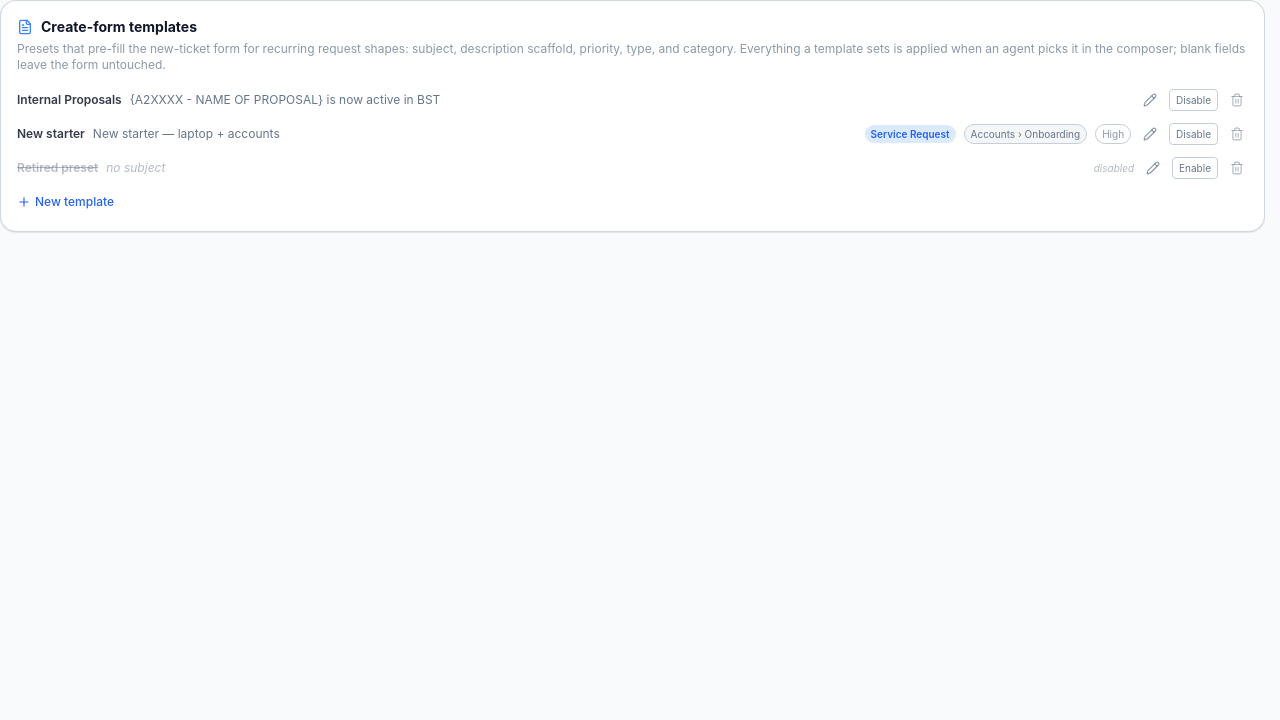
it: CreateTemplatesSection (Phase TT) › pencil prefills EVERY field of the row and Save PATCHes the edited payload
Expected: the text "Internal Proposals" is shown, left=17, top=92, right=122, bottom=108
Expected: the text "Accounts › Onboarding" is shown, left=964, top=124, right=1087, bottom=144
Click the button named "Edit template New starter" at [1150, 134], box left=1139, top=123, right=1161, bottom=145
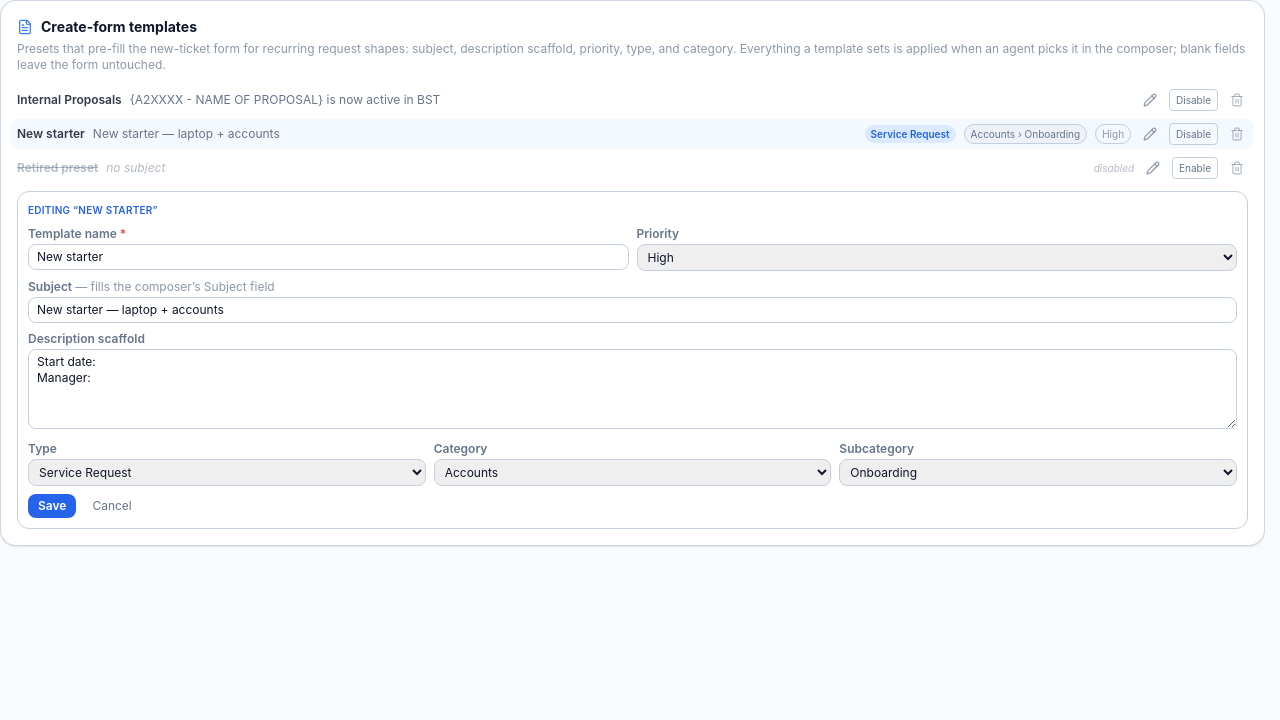
Expected: the text "Editing “New starter”" is shown, left=28, top=204, right=158, bottom=216
Expected: the field labelled "Template name" holds "New starter", left=28, top=244, right=628, bottom=270
Expected: the field labelled "Subject" holds "New starter — laptop + accounts"
Replace the text in the field labelled "Subject" with "New starter — laptop, phone + accounts" at [632, 310], box left=28, top=297, right=1237, bottom=323
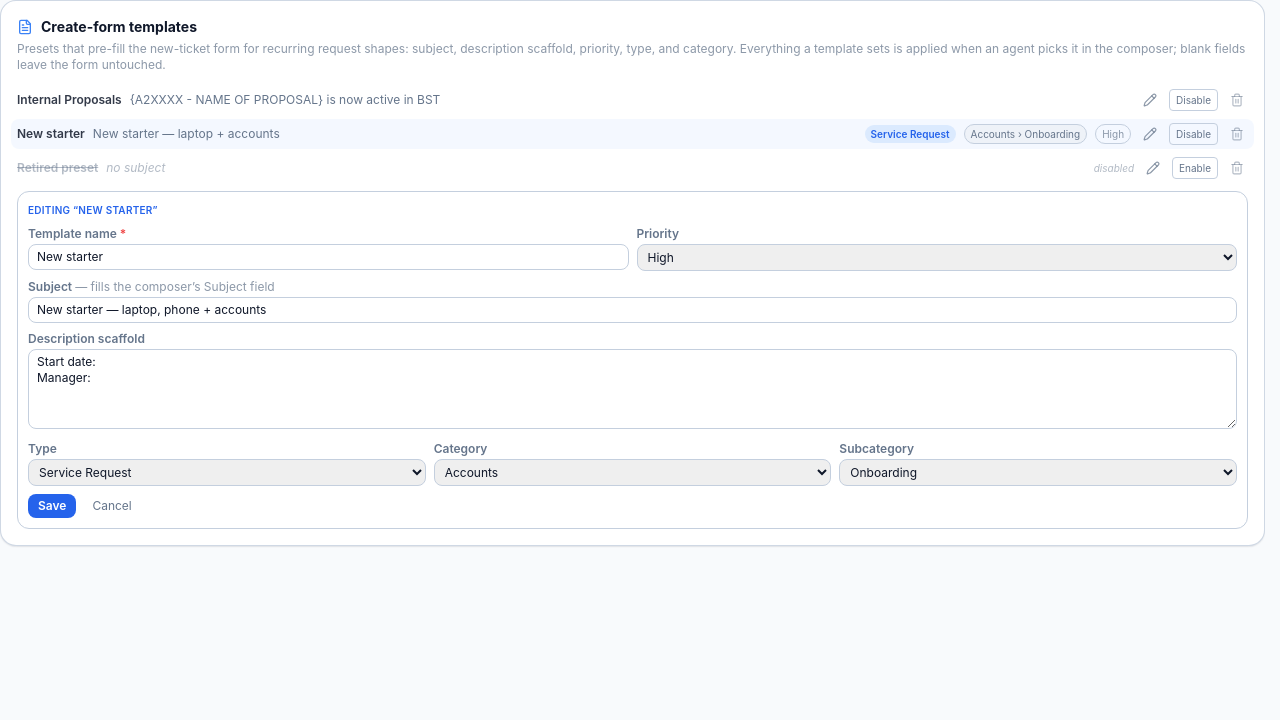
Select "Leave as-is" in the dropdown labelled "Priority" at [937, 258], box left=636, top=244, right=1237, bottom=271
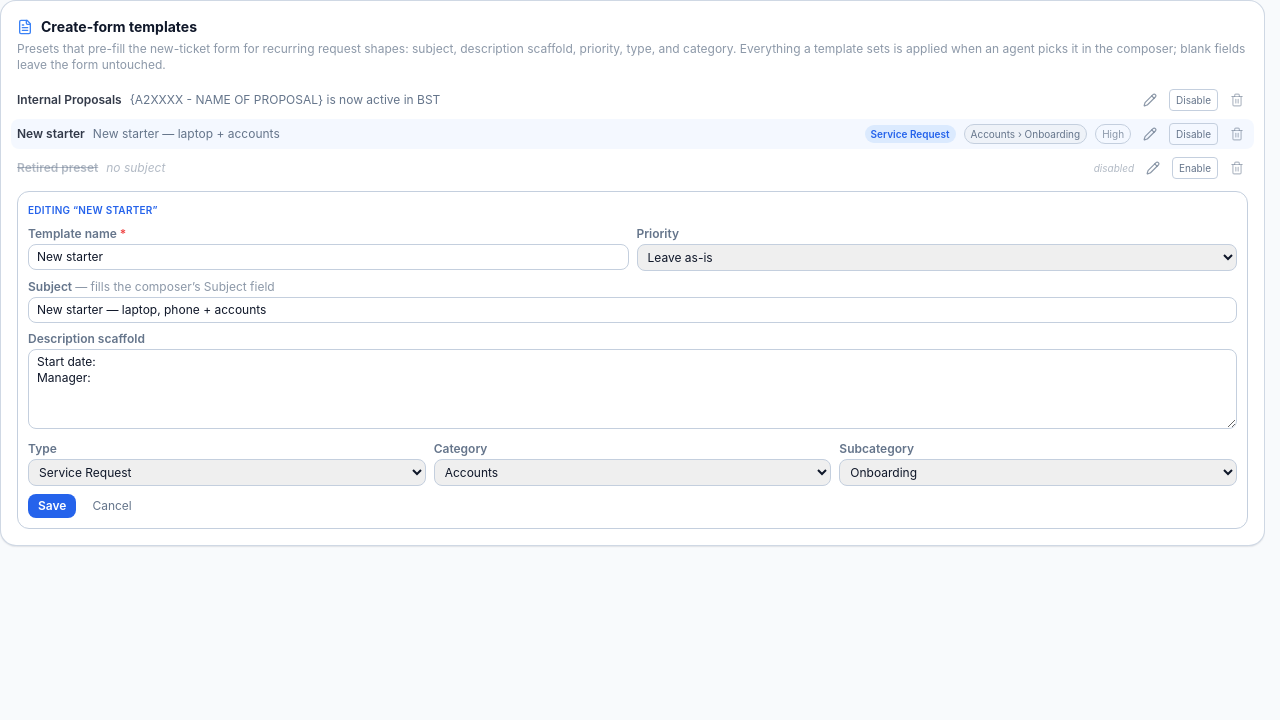
Select "Incident" in the dropdown named "Ticket type" at [227, 472], box left=28, top=459, right=426, bottom=486
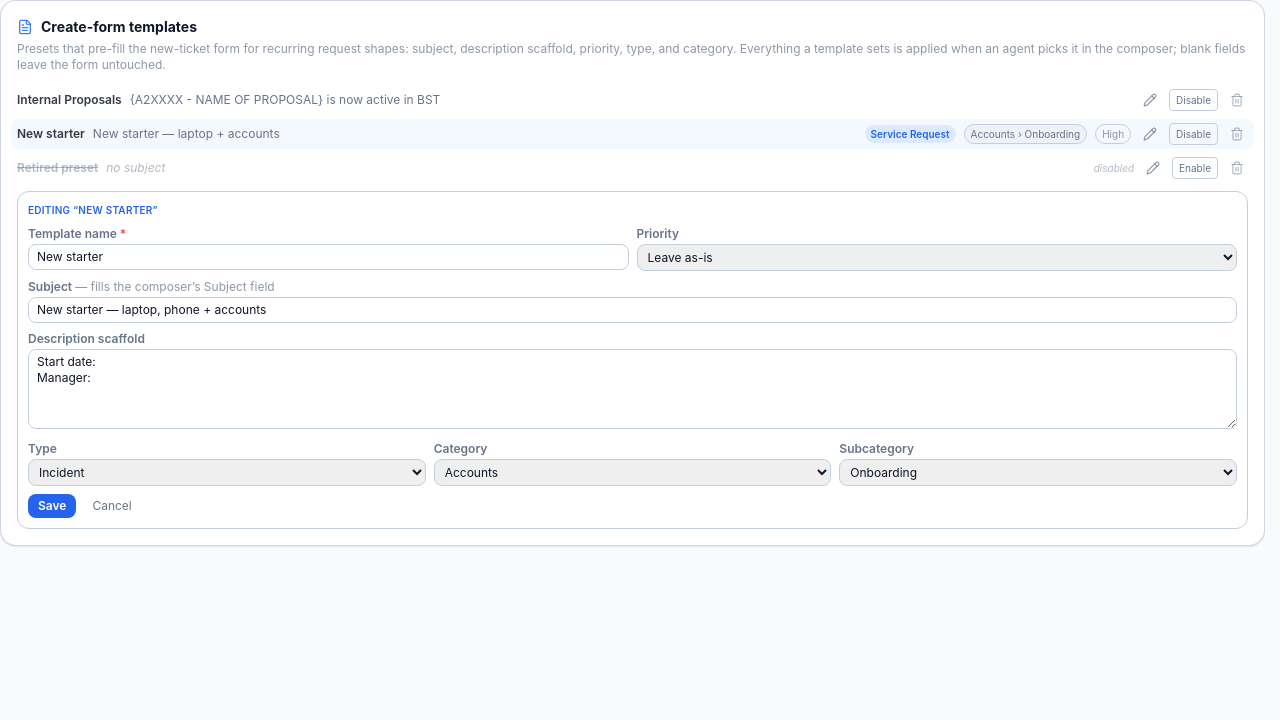
Click the button "Save" at [52, 506], box left=28, top=494, right=76, bottom=518
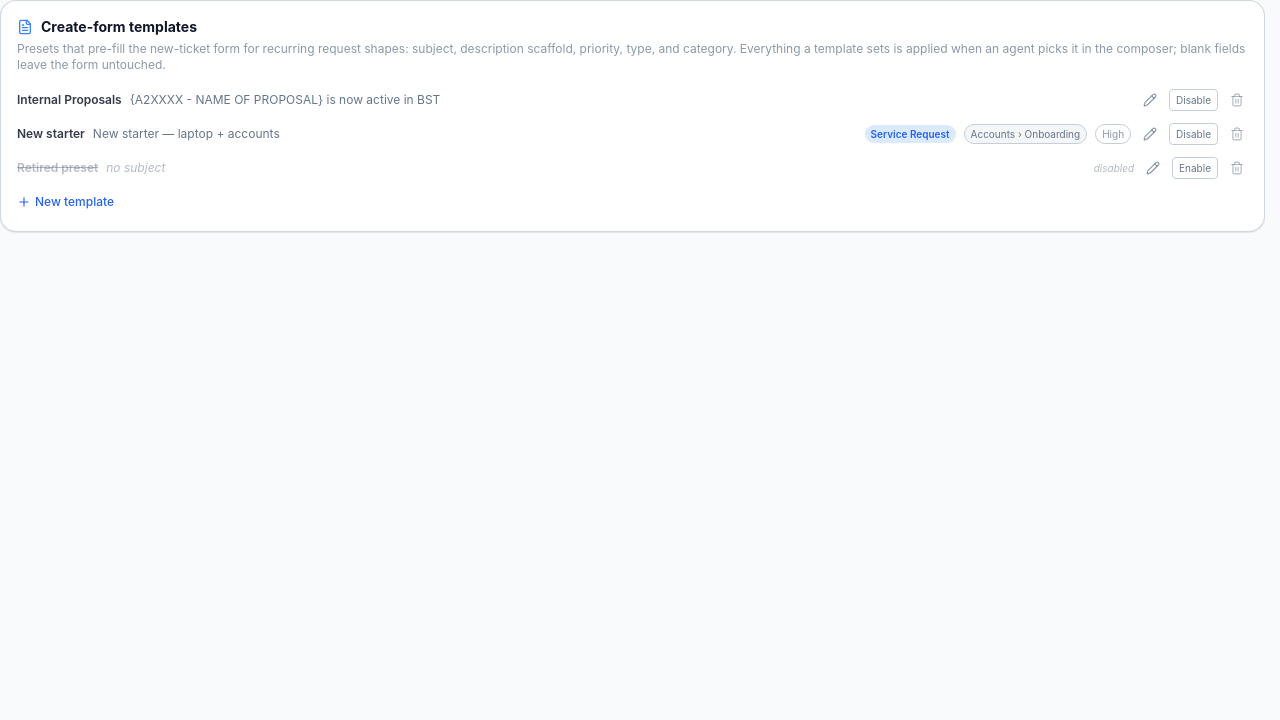
Expected: the element with test id "template-form" is gone
